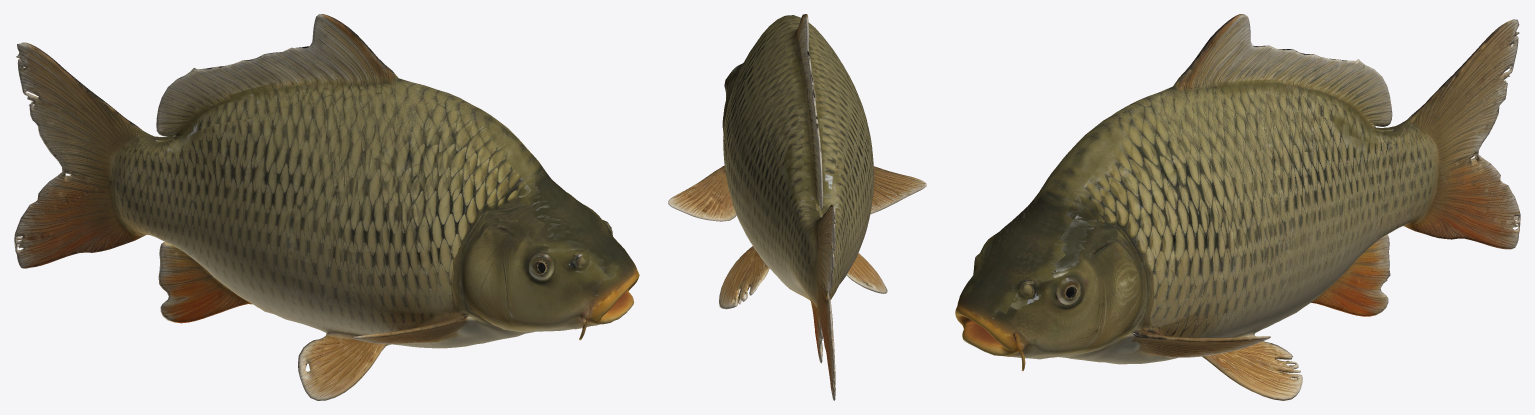
3 views of the same model, side by side, from view 1: azimuth 30°, elevation 25°; view 2: azimuth 150°, elevation 25°; view 3: azimuth 270°, elevation 25° (orthographic). The views are drawn at different scales.
Parts seen in each view (by area): view 1: tripo_node_8354ab7c_0; view 2: tripo_node_8354ab7c_0; view 3: tripo_node_8354ab7c_0.
Boxes of the visible parts, <box> form: tripo_node_8354ab7c_0: <box>14,14,639,400</box>; tripo_node_8354ab7c_0: <box>668,14,926,400</box>; tripo_node_8354ab7c_0: <box>955,14,1520,400</box>.
Size of the model in its own units: 1.52 by 1.36 by 2.
1 material, 1 textured.
